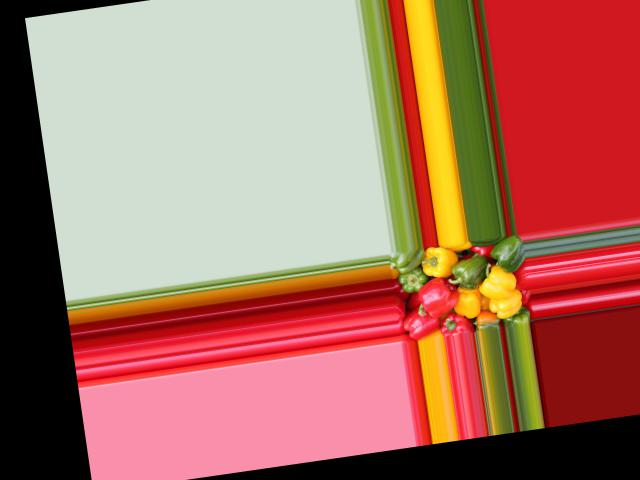bell_pepper: (498, 308, 530, 328)
